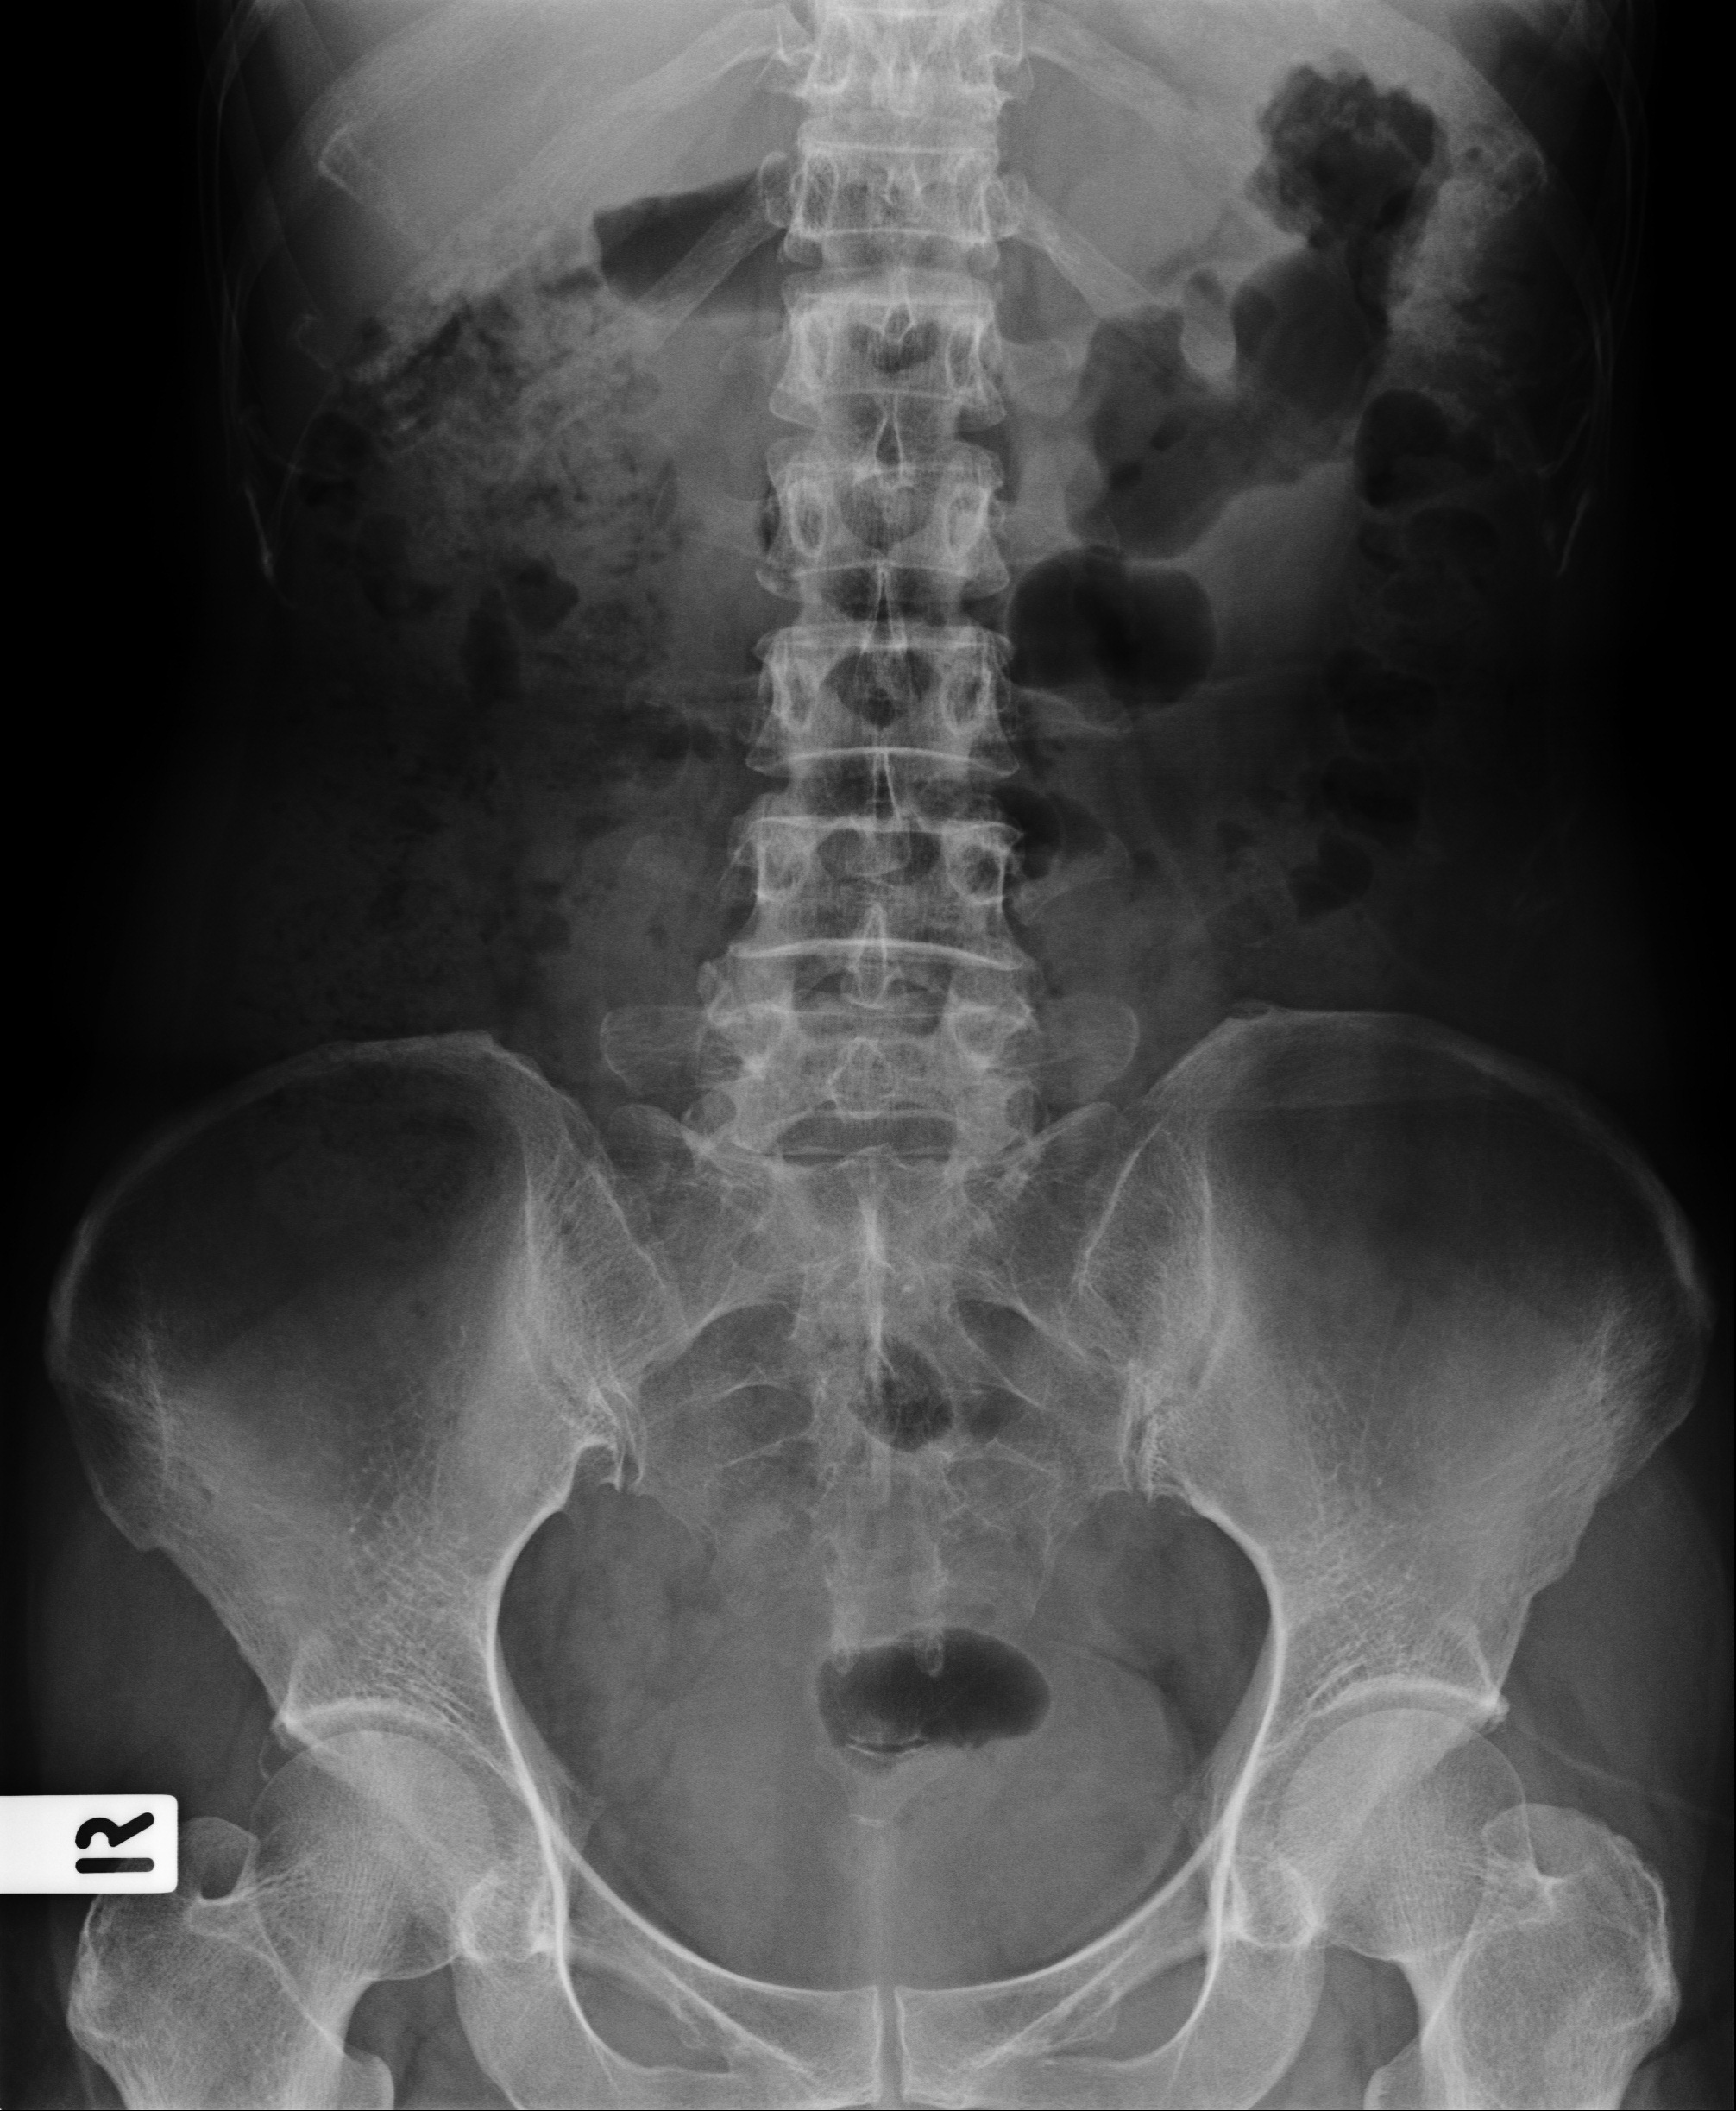lumbar scoliosis: (703, 0, 1045, 1198)
